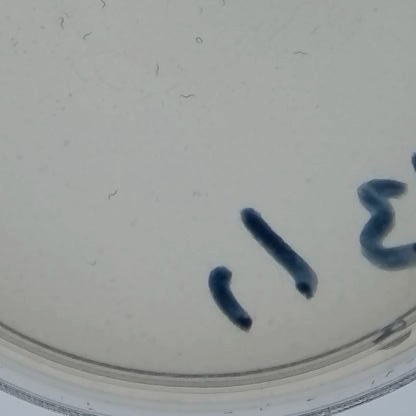worm: (280, 44, 316, 67), (186, 32, 207, 56), (72, 28, 99, 46), (192, 0, 214, 21), (172, 89, 200, 105), (149, 57, 164, 84), (104, 185, 121, 207), (53, 14, 69, 36), (90, 0, 110, 14), (86, 255, 103, 271), (216, 0, 232, 15)
